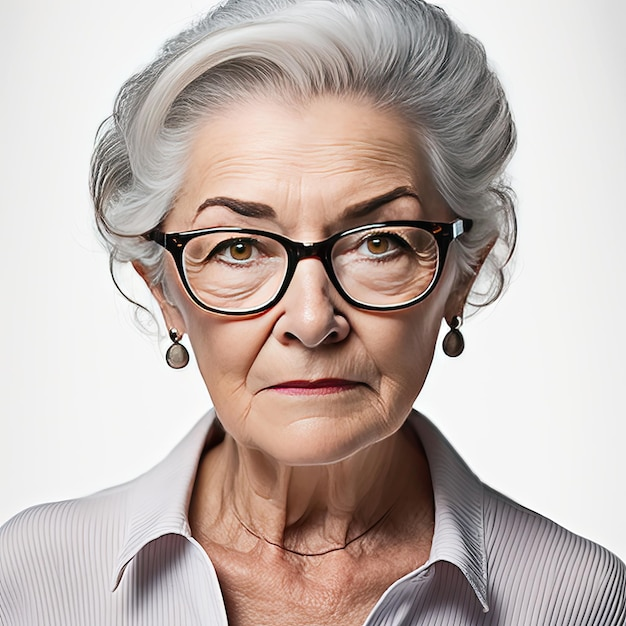young: (74, 36, 514, 451)
